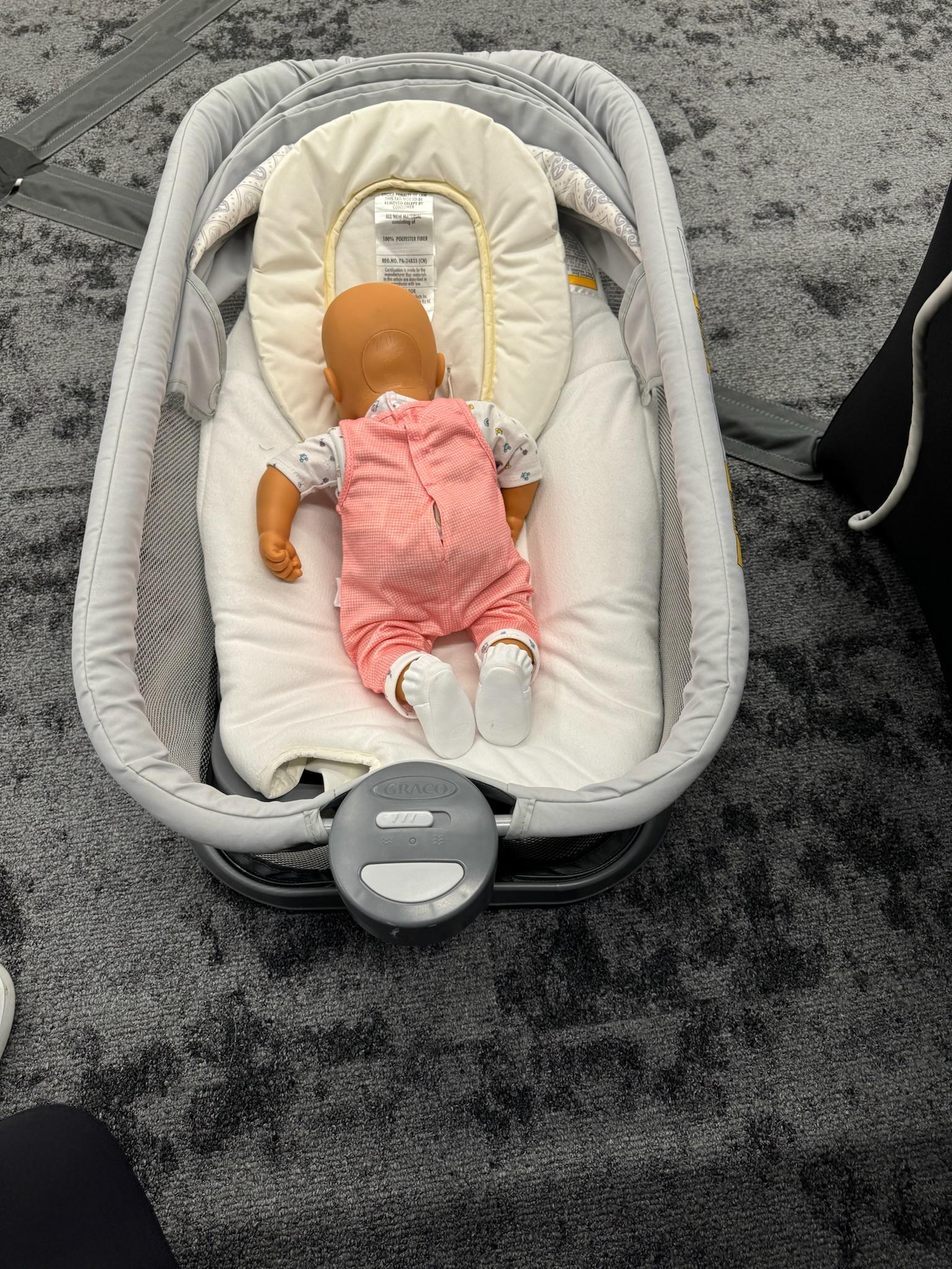baby: (253, 278, 564, 751)
